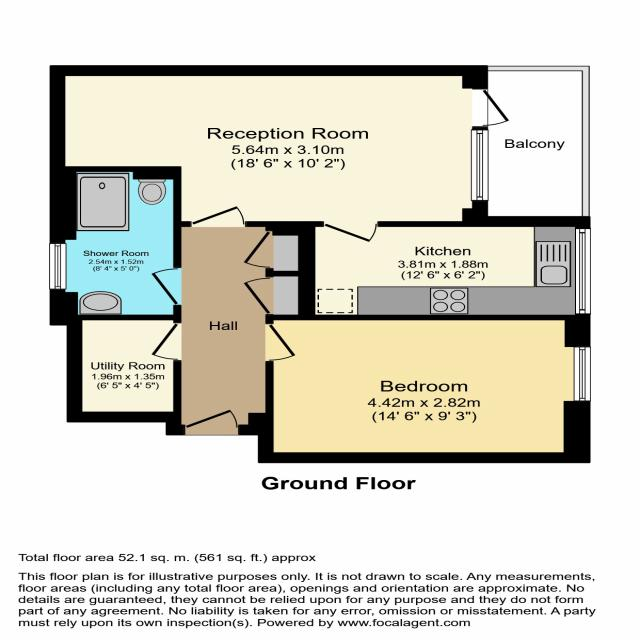DOOR: (468, 85, 516, 130), (183, 408, 240, 436), (189, 204, 247, 227), (265, 323, 298, 362), (149, 322, 182, 361), (149, 267, 182, 306), (323, 221, 379, 243)
ROOM: (49, 65, 511, 244), (257, 314, 592, 464), (297, 216, 591, 320)
WINDOW: (574, 228, 592, 315), (470, 129, 489, 202), (573, 346, 592, 403), (48, 243, 68, 290)
